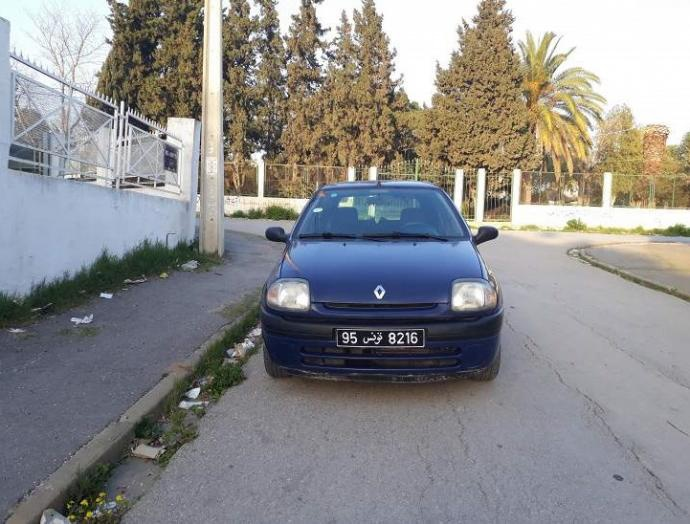LP: (335, 327, 425, 349)
